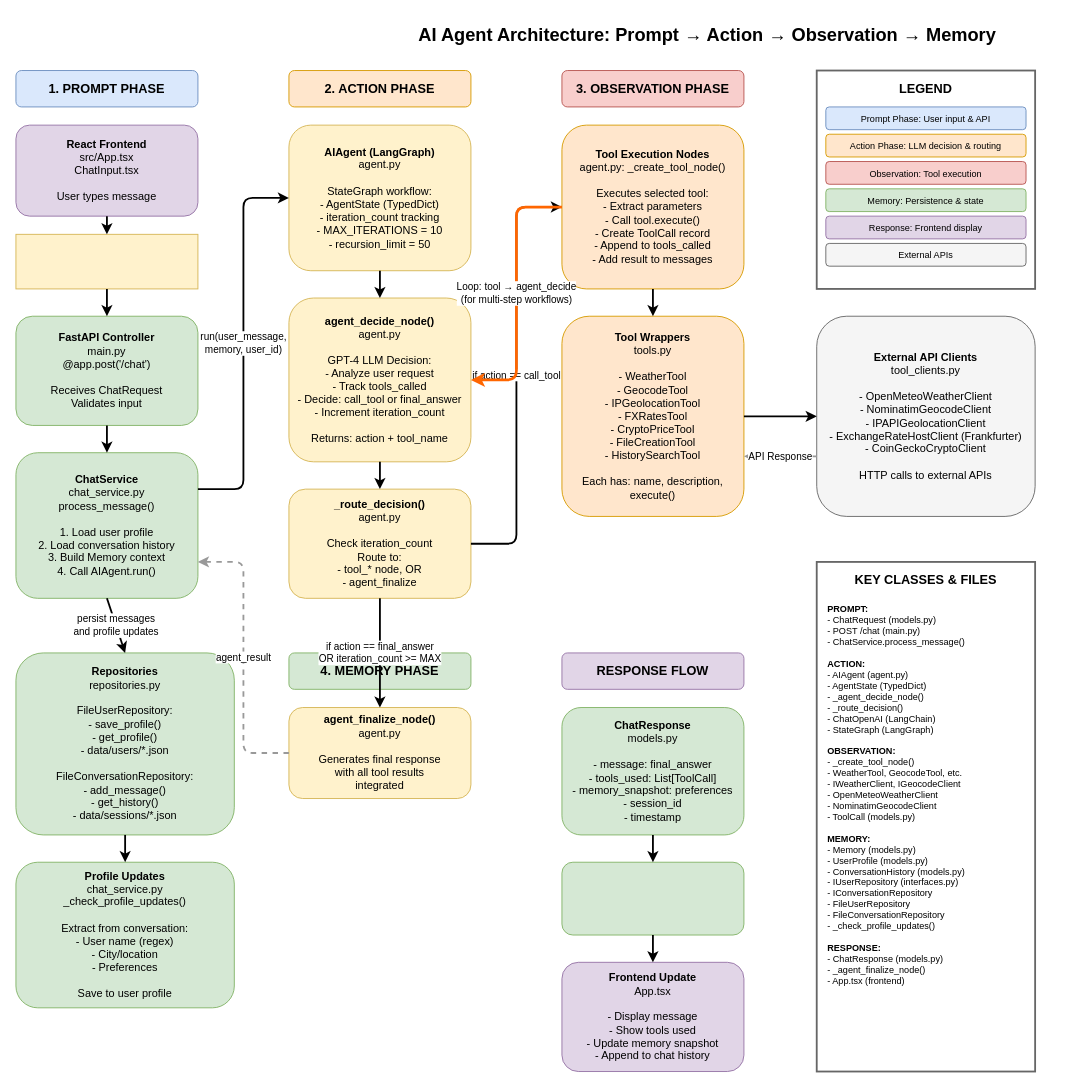
Image size: 1087x1087. Some labels were removed from this diagram. The shapes that lost their labels are listed below. From the top down, each one's centre as x and y in pixels, then its label:
At [106,261]: "POST /chat {message, user_id, session_id}".
At [652,898]: "FastAPI Response main.py JSON response to frontend".
